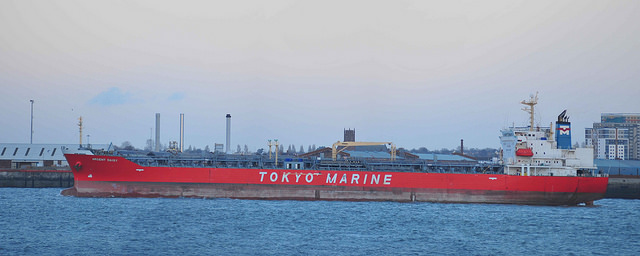tanker: (53, 111, 611, 207)
